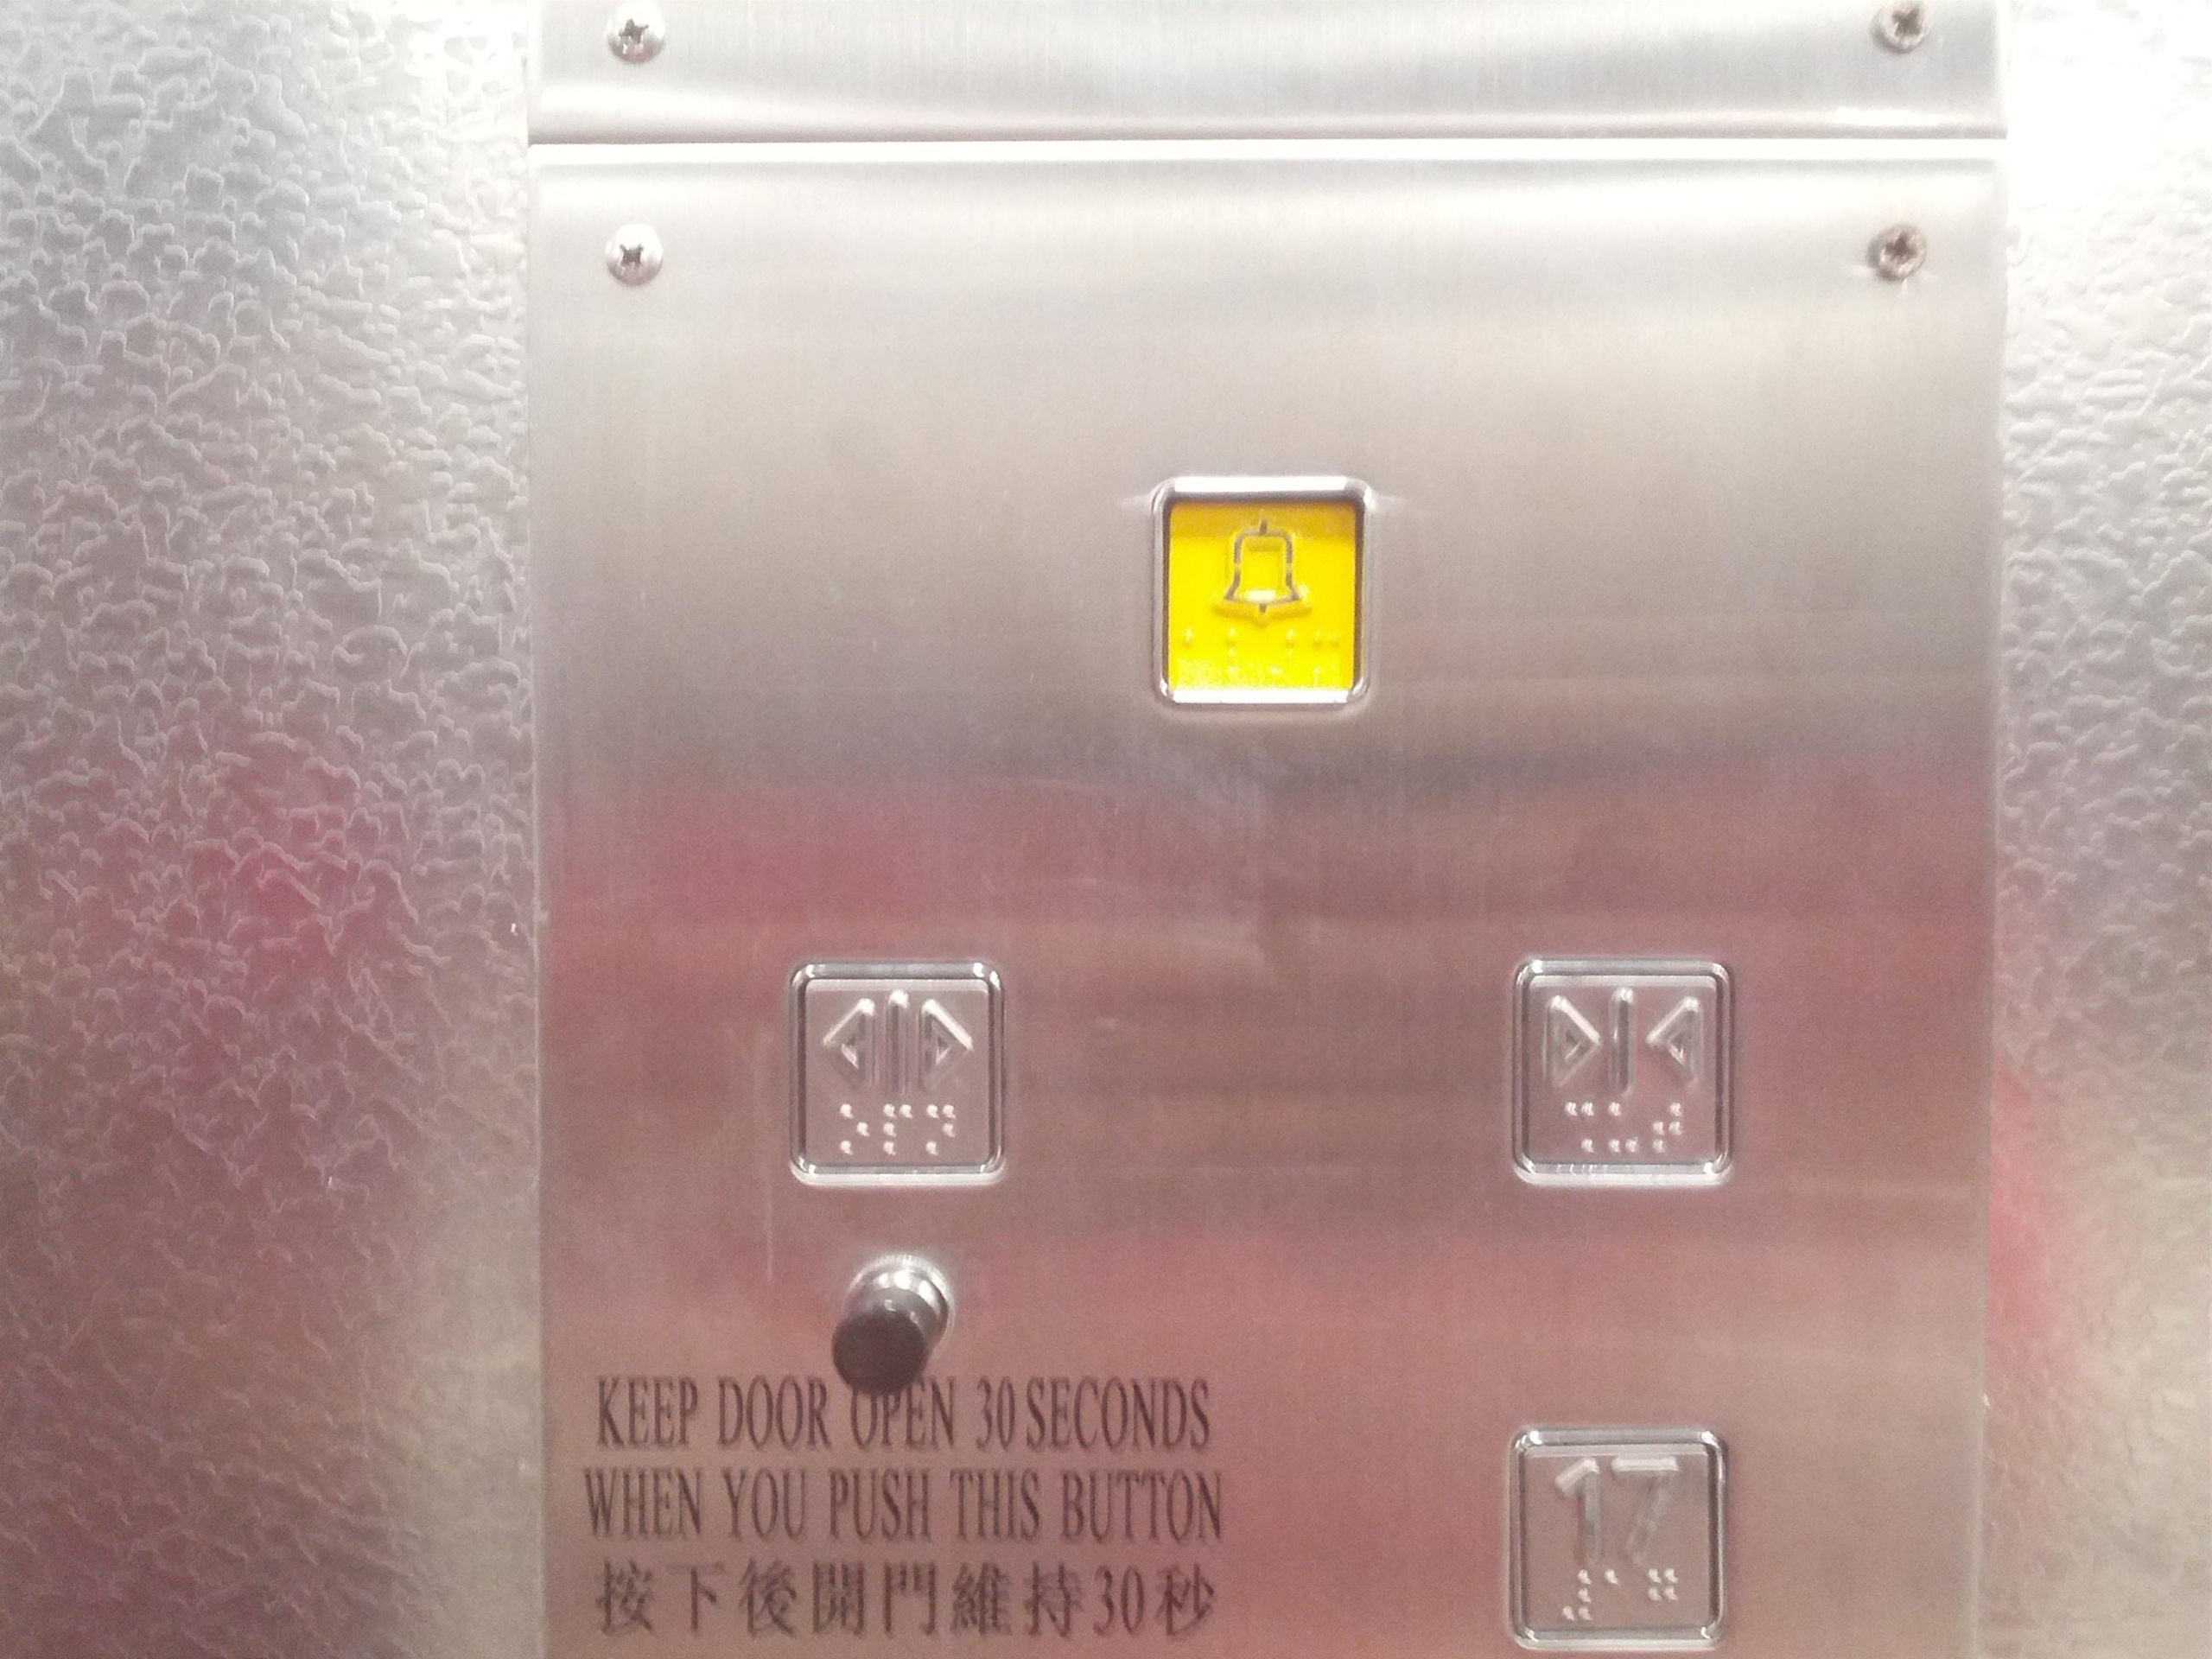17: (1507, 1429, 1728, 1647)
alarm: (1153, 476, 1372, 709)
close: (1507, 955, 1733, 1185)
empty: (827, 1258, 953, 1392)
open: (787, 962, 1003, 1178)
